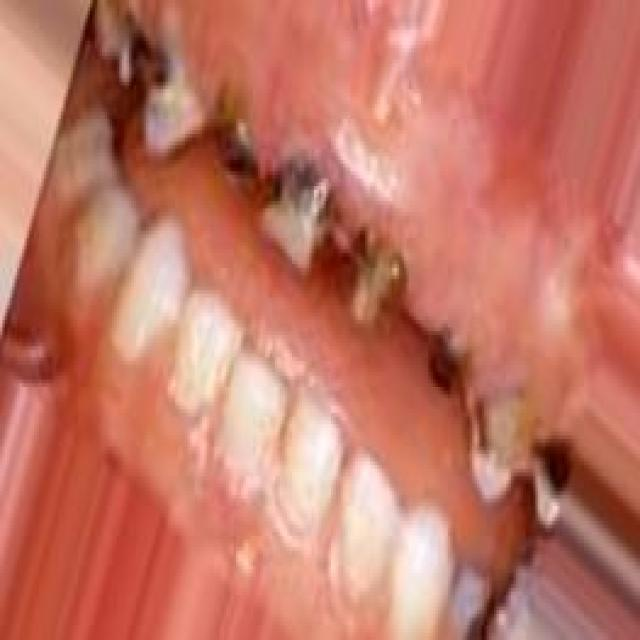caries: (261, 141, 334, 281), (337, 216, 414, 340), (462, 381, 530, 506), (200, 59, 258, 190), (143, 20, 195, 120), (532, 420, 572, 532), (421, 308, 464, 392), (112, 0, 152, 88)
